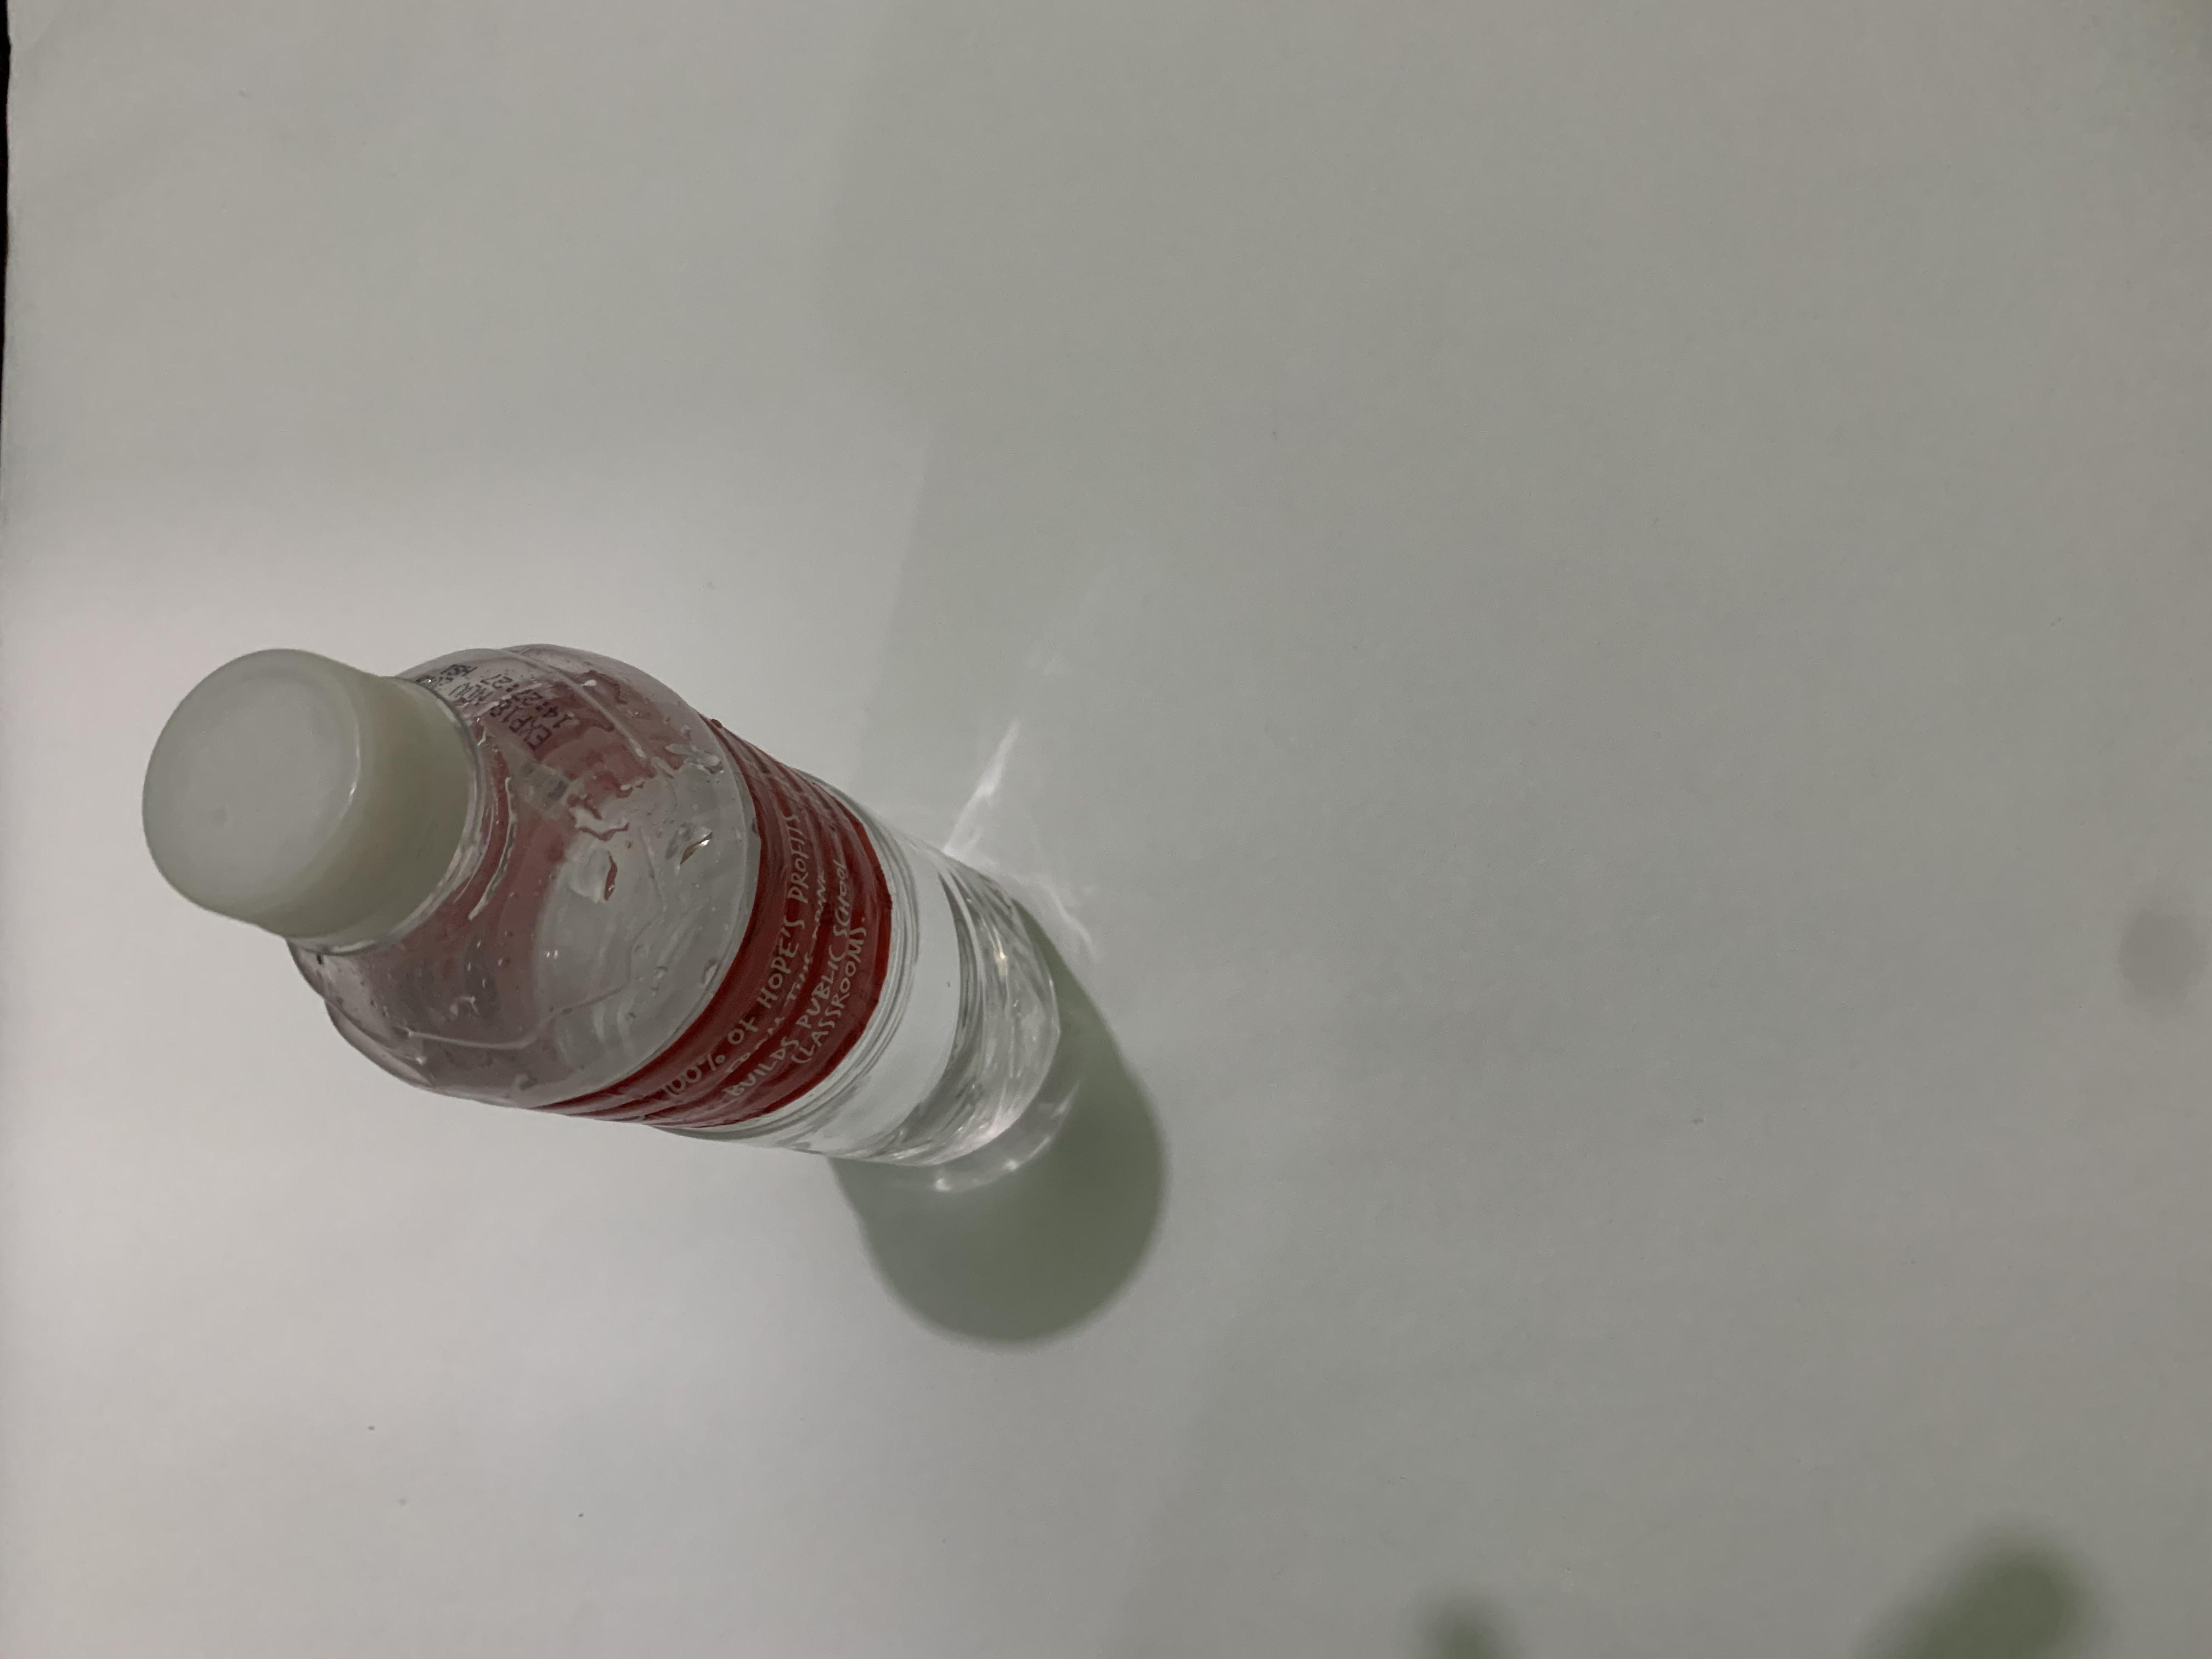bottle: (622, 103, 1367, 798)
